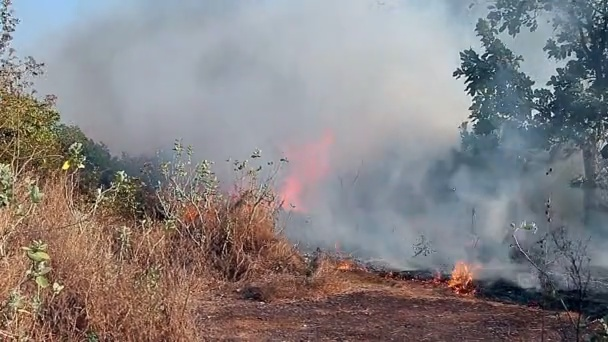fire: (453, 262, 471, 287), (61, 161, 68, 167), (78, 163, 85, 167)
